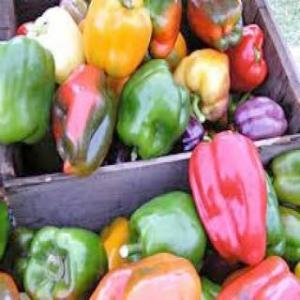bell_pepper: (51, 61, 118, 183), (121, 184, 207, 278), (118, 60, 192, 168)
